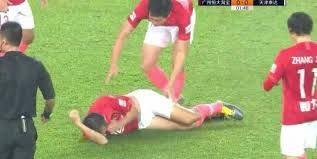fall: (67, 81, 245, 146)
